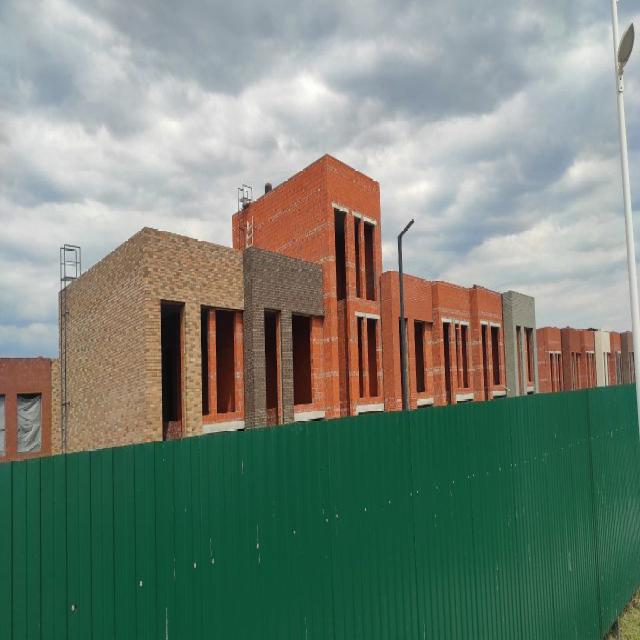Building: (61, 154, 539, 451)
